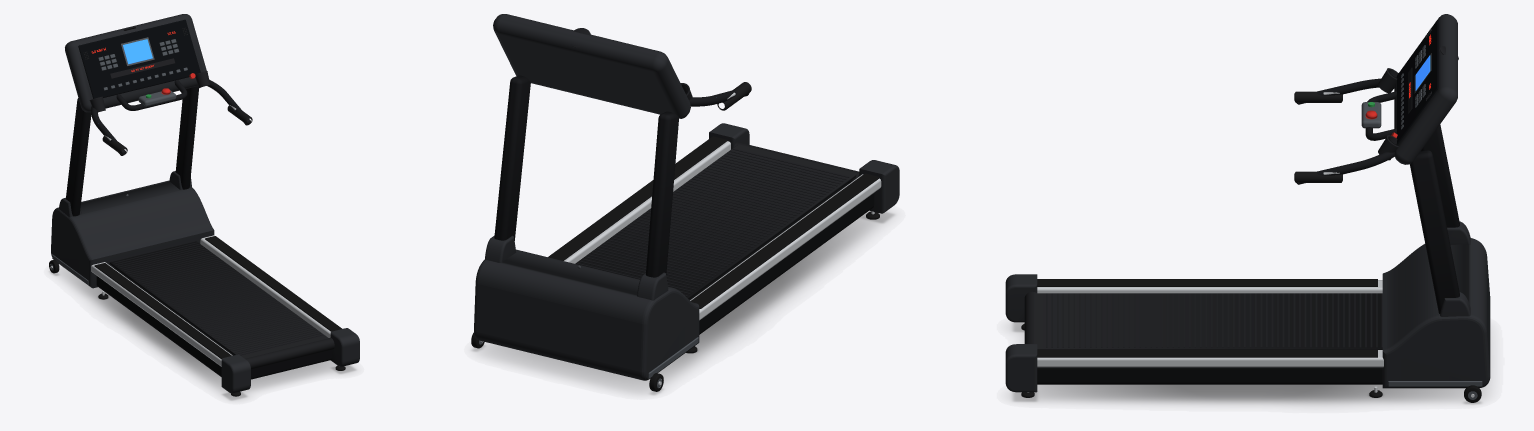
The model's file is passadeira.glb.
The picture shows the model from 3 angles, left to right: view 1: azimuth 30°, elevation 25°; view 2: azimuth 150°, elevation 25°; view 3: azimuth 270°, elevation 25°; orthographic projection. The views are drawn at different scales.
Parts seen in each view (by area): view 1: Tapete, Capota_Motor, Painel, Sombra_Contacto, Carcaca, Chassis, Montante, Antiderrapante_Esq, Antiderrapante_Dir, Montante_1, Calha_Aluminio_Esq, Calha_Aluminio_Dir (+7 smaller); view 2: Capota_Motor, Tapete, Carcaca, Sombra_Contacto, Montante_1, Montante, Chassis, Antiderrapante_Esq, Antiderrapante_Dir, Calha_Aluminio_Esq, Calha_Aluminio_Dir, Tampa_Tras_Esq (+3 smaller); view 3: Tapete, Capota_Motor, Sombra_Contacto, Chassis, Calha_Aluminio_Dir, Montante_1, Carcaca, Antiderrapante_Dir, Antiderrapante_Esq, Calha_Aluminio_Esq, Painel, Tampa_Tras_Dir (+7 smaller).
Part boxes in pixels (x1,y1,x2,y2): Tapete: (109,241,328,358); Capota_Motor: (51,180,214,288); Painel: (78,19,200,98); Sombra_Contacto: (50,268,355,400); Carcaca: (65,14,206,112); Chassis: (96,268,332,379); Montante: (65,98,91,216); Antiderrapante_Esq: (94,263,231,358); Antiderrapante_Dir: (205,236,342,331); Montante_1: (175,86,198,189); Calha_Aluminio_Esq: (91,262,232,366); Calha_Aluminio_Dir: (200,235,330,337); Capota_Motor: (474,249,699,380); Tapete: (575,144,856,299); Carcaca: (493,14,690,118); Sombra_Contacto: (472,211,894,394); Montante_1: (494,75,530,240); Montante: (645,111,678,277); Chassis: (689,183,874,334); Antiderrapante_Esq: (691,173,879,308); Antiderrapante_Dir: (548,136,727,260); Calha_Aluminio_Esq: (690,174,881,320); Calha_Aluminio_Dir: (564,141,730,263); Tampa_Tras_Esq: (859,160,899,213); Tapete: (1034,293,1382,349); Capota_Motor: (1382,238,1490,388); Sombra_Contacto: (1011,322,1484,404); Chassis: (1037,367,1382,384); Calha_Aluminio_Dir: (1037,350,1383,367); Montante_1: (1409,150,1459,313); Carcaca: (1394,14,1457,164); Antiderrapante_Dir: (1037,349,1377,357); Antiderrapante_Esq: (1037,279,1377,286); Calha_Aluminio_Esq: (1037,280,1382,293); Painel: (1397,19,1438,144); Tampa_Tras_Dir: (1005,344,1037,392).
Size of the model in its own units: 1.19 by 1.57 by 2.47.
Materials: 15 (1 with a texture image).
